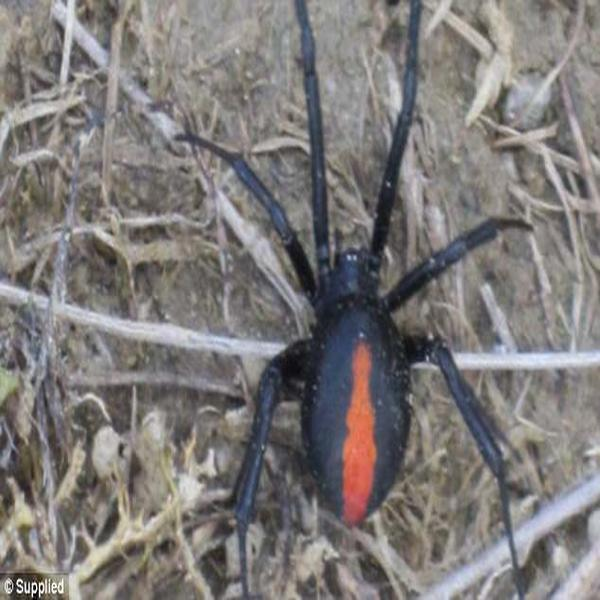Redback Spider: (188, 10, 535, 590)
